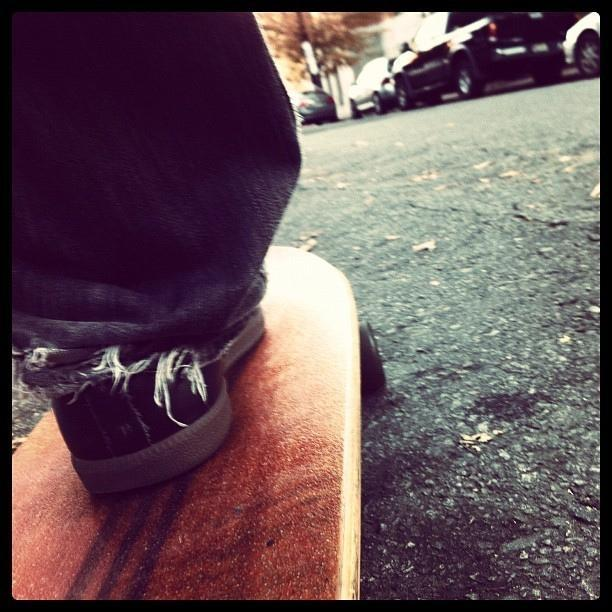car: (391, 9, 583, 110), (348, 57, 399, 121), (562, 11, 600, 78), (298, 88, 340, 127)
